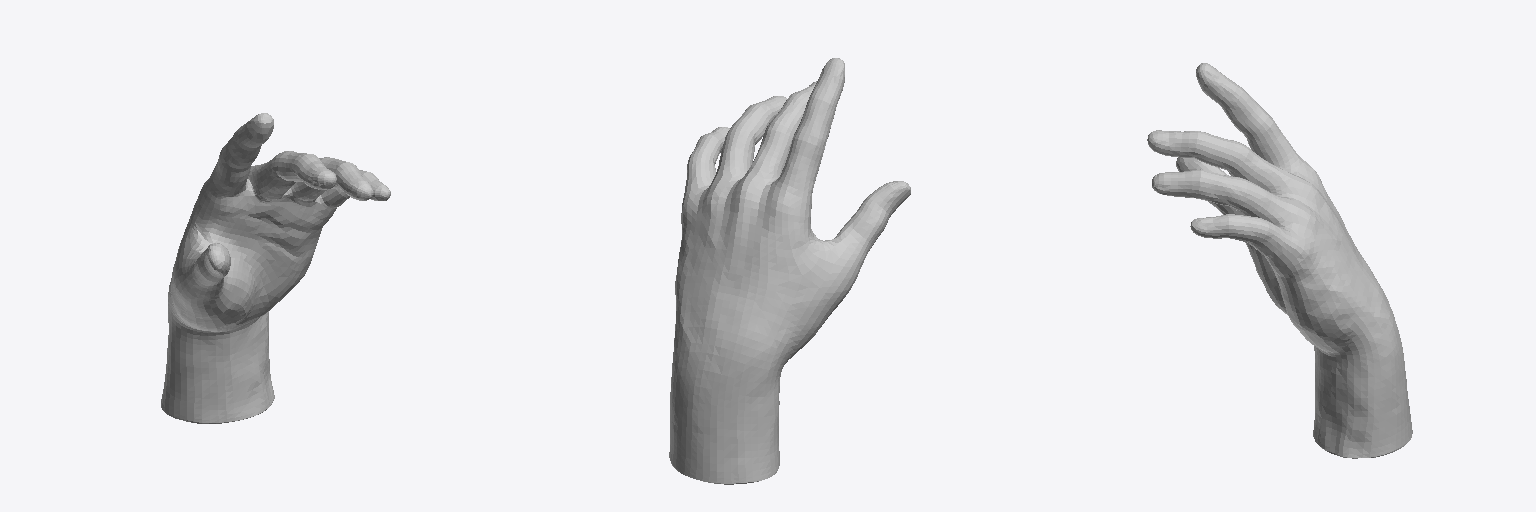
Rendered from hand.obj.
The picture shows the model from 3 angles: view 1: azimuth 30°, elevation 25°; view 2: azimuth 150°, elevation 25°; view 3: azimuth 270°, elevation 25°; orthographic projection.
Visible parts, largest first — view 1: hand_low; view 2: hand_low; view 3: hand_low.
Part boxes in pixels (bbox=[...]): hand_low: bbox=[161, 113, 390, 423]; hand_low: bbox=[669, 58, 910, 484]; hand_low: bbox=[1147, 63, 1412, 458].
Bounding box in the file's own units: 1 × 1.8 × 1.22.